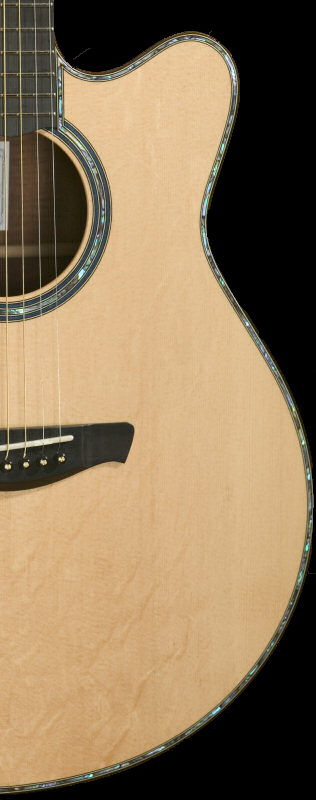guitar: (1, 5, 309, 798)
